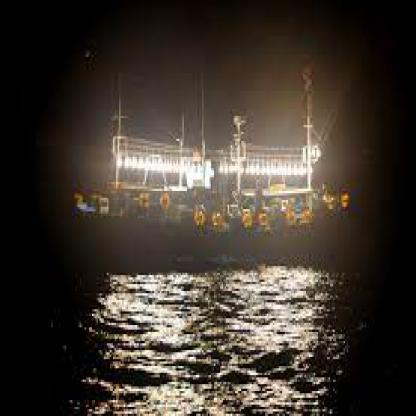fish-b: (60, 84, 354, 271)
